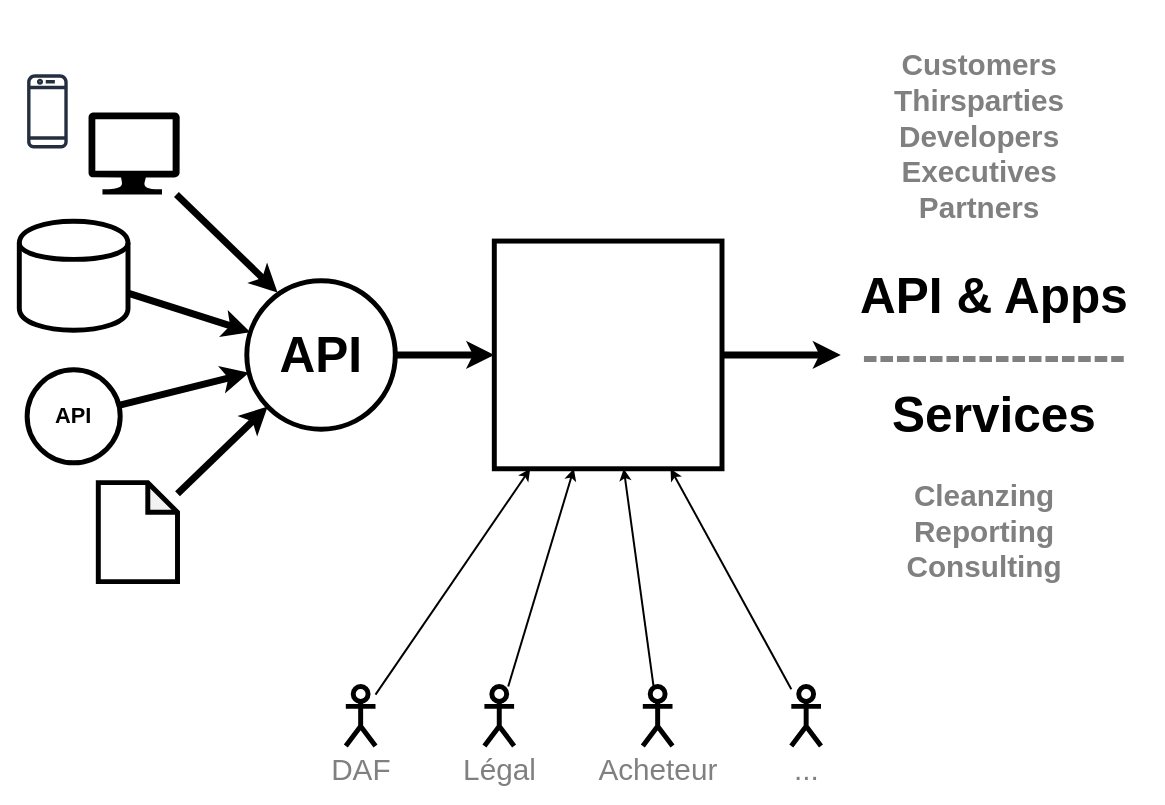
The diagram is 1165 pixels wide and 805 high, and some of its shapes have lost their labels. The shapes that lost their labels are listed below. From the top down, each one's centre as x and y in pixels, then its label:
At point 73,275: "db".
At point 607,354: "DESIGN".
At point 137,532: "PDF".
